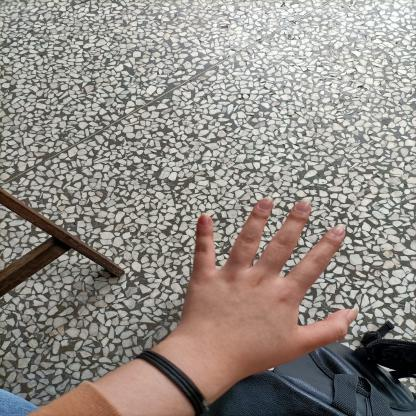bare_hand: (174, 190, 366, 382)
